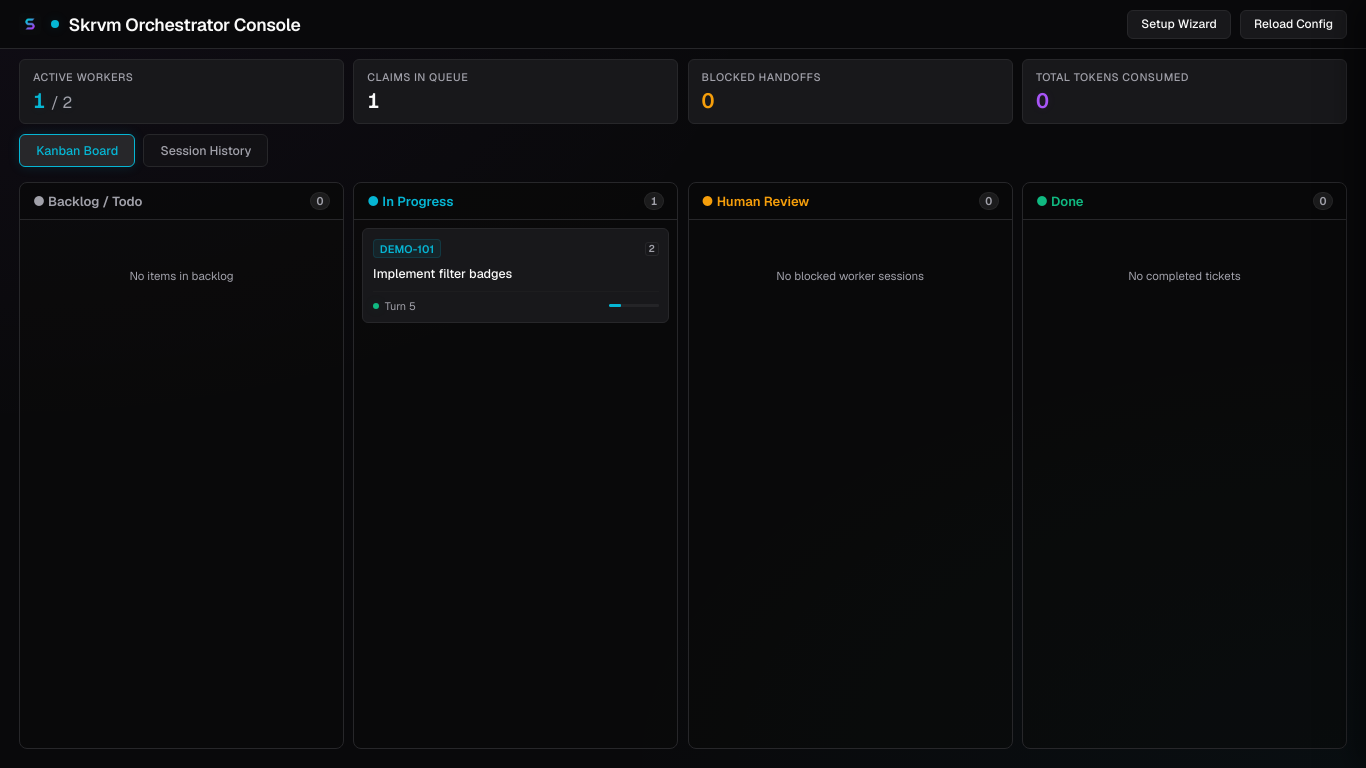
Test: Skrvm Frontend React App › should handle TodoMVC sandbox add, delete, and badge filter count operations cleanly in the drawer
The width and height of the screenshot is (1366, 768).
Select the card to open the drawer
Click the text "Implement filter badges": point(443, 274) [373,265,512,282]
(page scrolled)
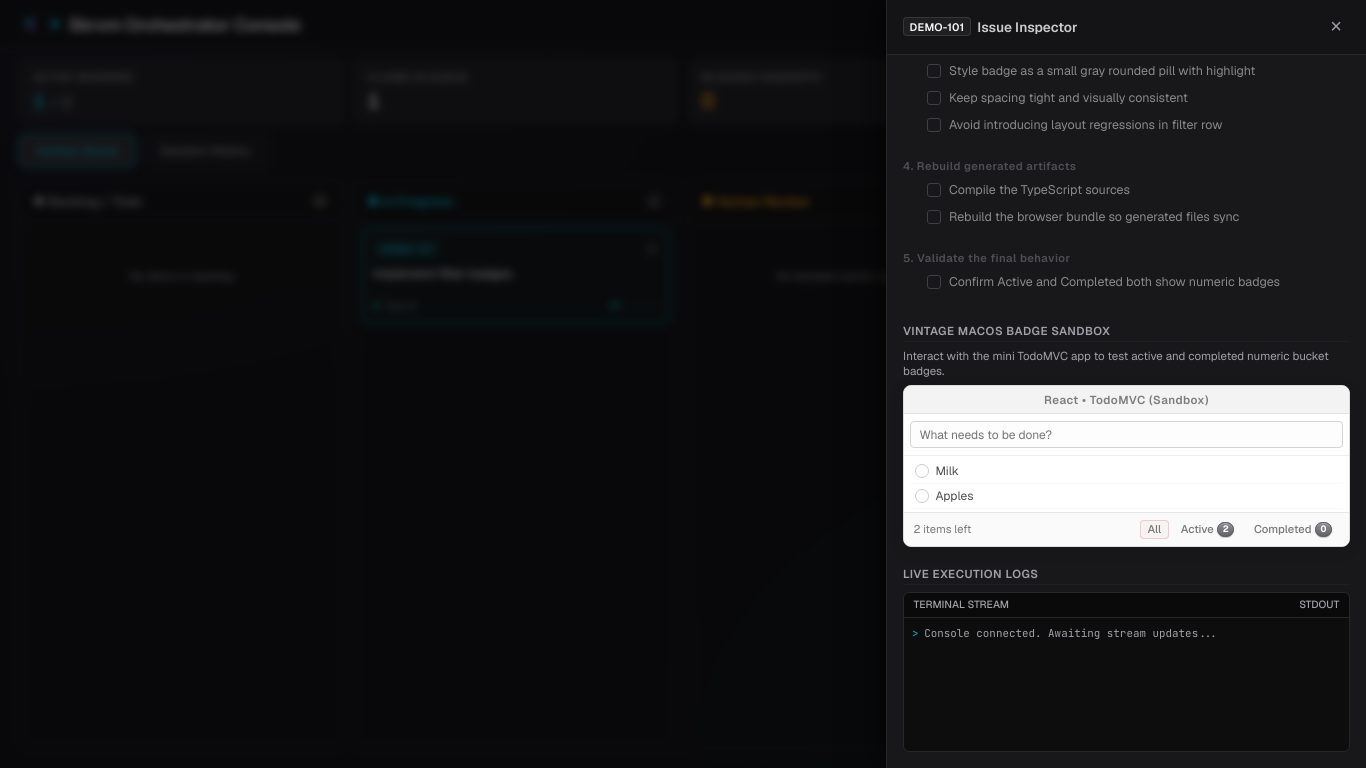
Check: the text "React • TodoMVC (Sandbox)" is shown, box [904,386,1349,414]
Check: the text "Milk" is shown, box [936,463,959,479]
Check: the text "Apples" is shown, box [936,488,974,504]
In the field with placeholder "What needs to be done?": point(1126, 435) [910,421,1343,448], type "Buy Bread"
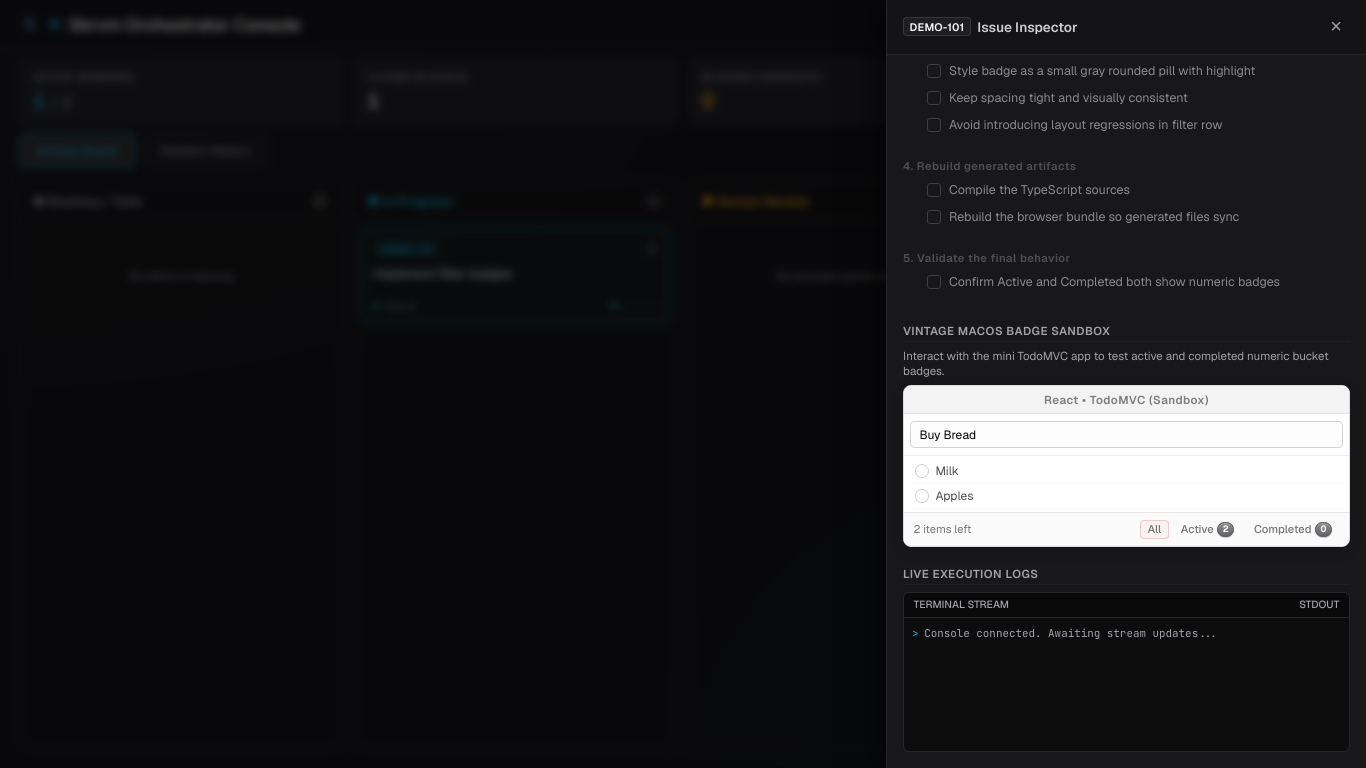
Submit the form with placeholder "What needs to be done?", box [904,414,1349,456]
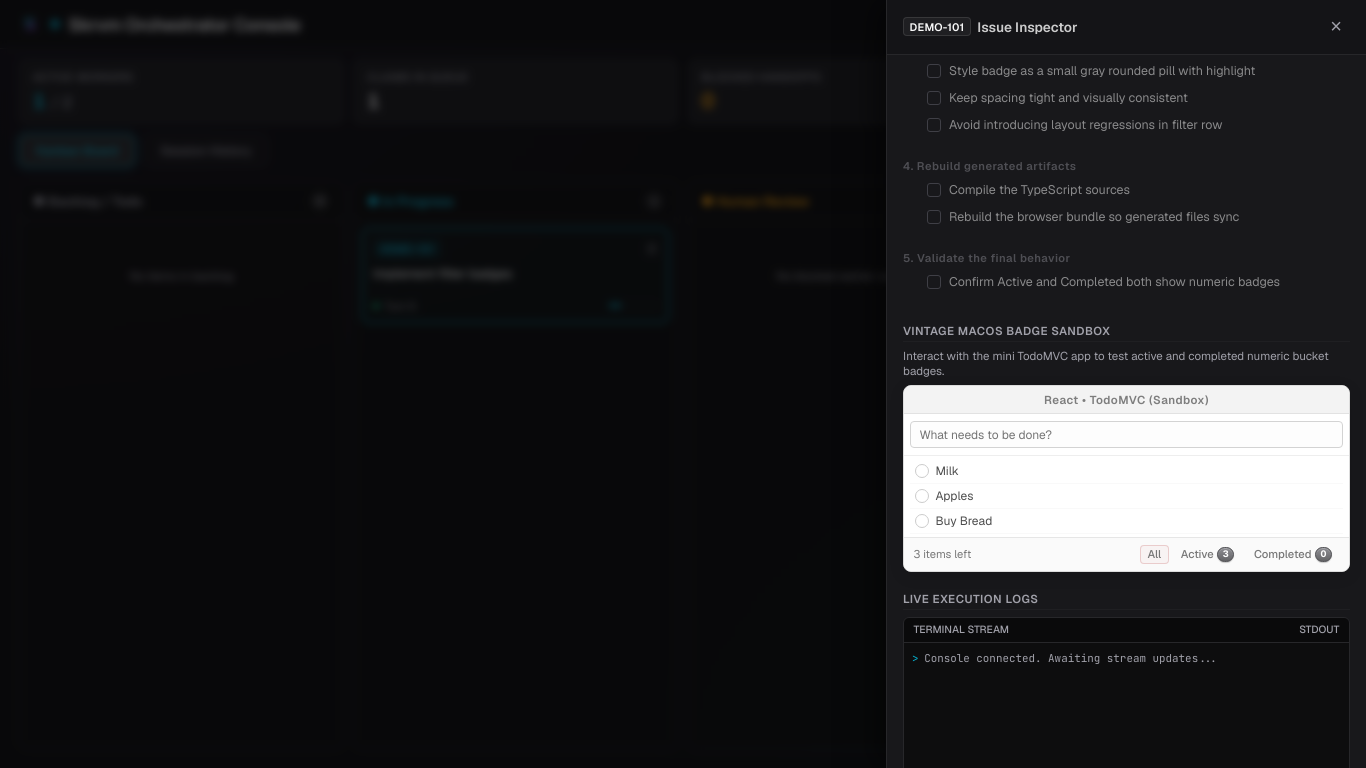
Check: the text "Buy Bread" is shown, box [936,513,992,529]
Check: the text "3 items left" is shown, box [914,548,971,562]
